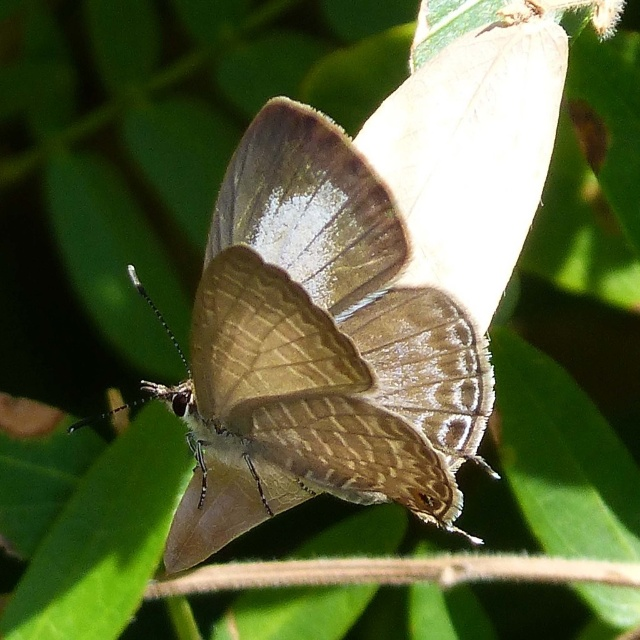Butterfly: (65, 93, 498, 543)
